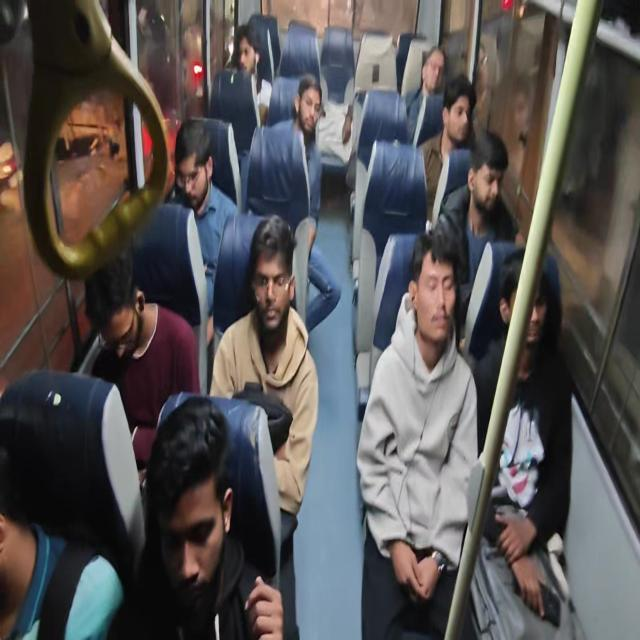person: (143, 394, 235, 602), (249, 205, 308, 346), (489, 238, 559, 354), (404, 227, 466, 357), (0, 408, 34, 628), (90, 254, 150, 364), (463, 124, 518, 220), (171, 114, 216, 215), (441, 72, 478, 141), (233, 25, 269, 92), (293, 71, 325, 141), (423, 40, 447, 98)
